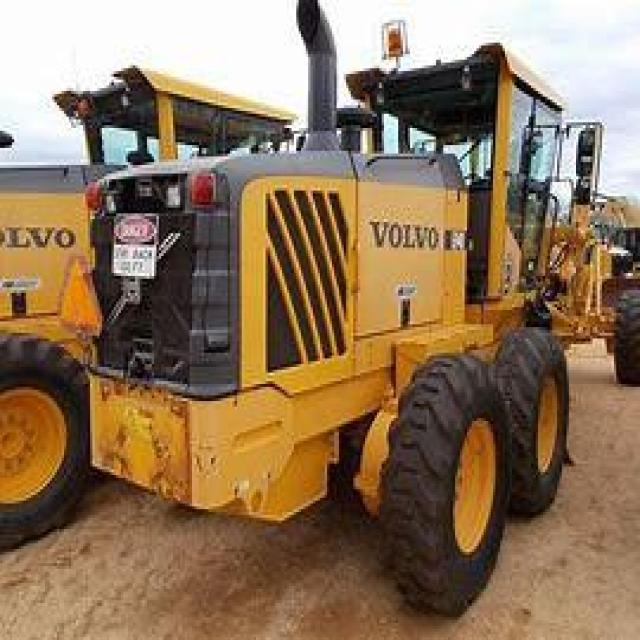buldozerpayloadergrader: (73, 11, 638, 603)
